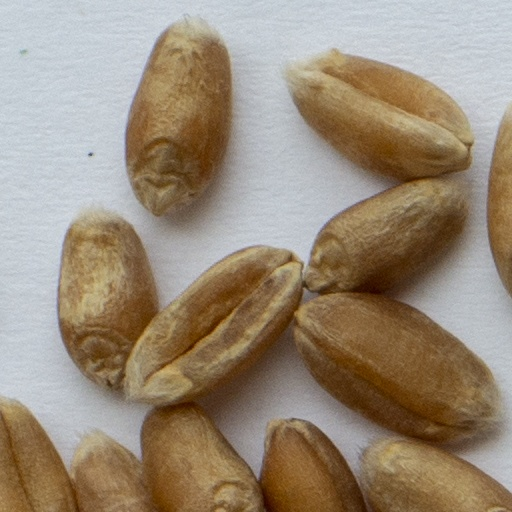Wheat-grain: (297, 290, 508, 454), (124, 248, 300, 402), (287, 51, 472, 179), (128, 17, 232, 215), (306, 178, 467, 292), (59, 211, 154, 388), (143, 401, 261, 511), (362, 438, 511, 511), (262, 421, 364, 511), (0, 396, 76, 511), (73, 433, 150, 511), (489, 103, 511, 295)
